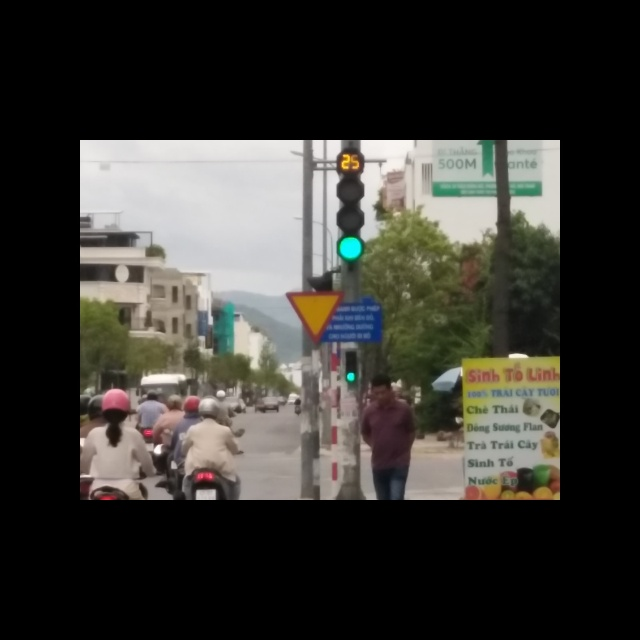Giao nhau với đường ưu tiên: (284, 291, 347, 345)
Đèn xanh: (337, 236, 364, 263)
